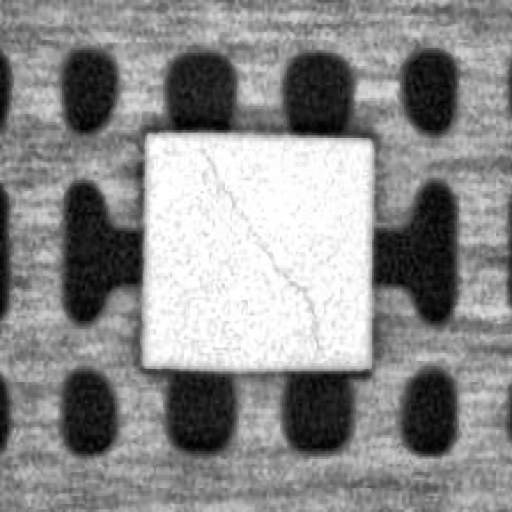DIE_CRACK: (200, 146, 319, 318)
